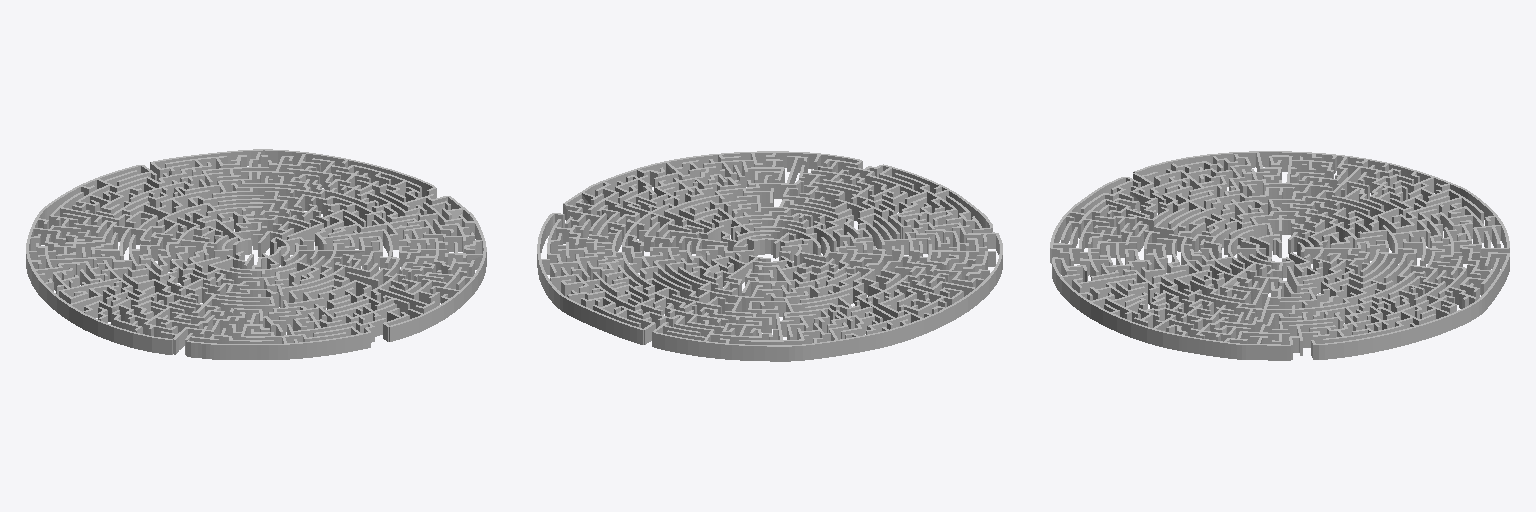
Rendered from Laberinto_Medio.obj.
3 views of the same model, side by side, from view 1: azimuth 30°, elevation 25°; view 2: azimuth 150°, elevation 25°; view 3: azimuth 270°, elevation 25° (orthographic).
Parts seen in each view (by area): view 1: Curve_489; view 2: Curve_489; view 3: Curve_489.
Part boxes in pixels (left/top/right/bottom): Curve_489: left=26, top=149, right=486, bottom=359; Curve_489: left=537, top=151, right=1002, bottom=361; Curve_489: left=1050, top=151, right=1509, bottom=360.
Size of the model in its own units: 10.41 by 0.373 by 10.39.